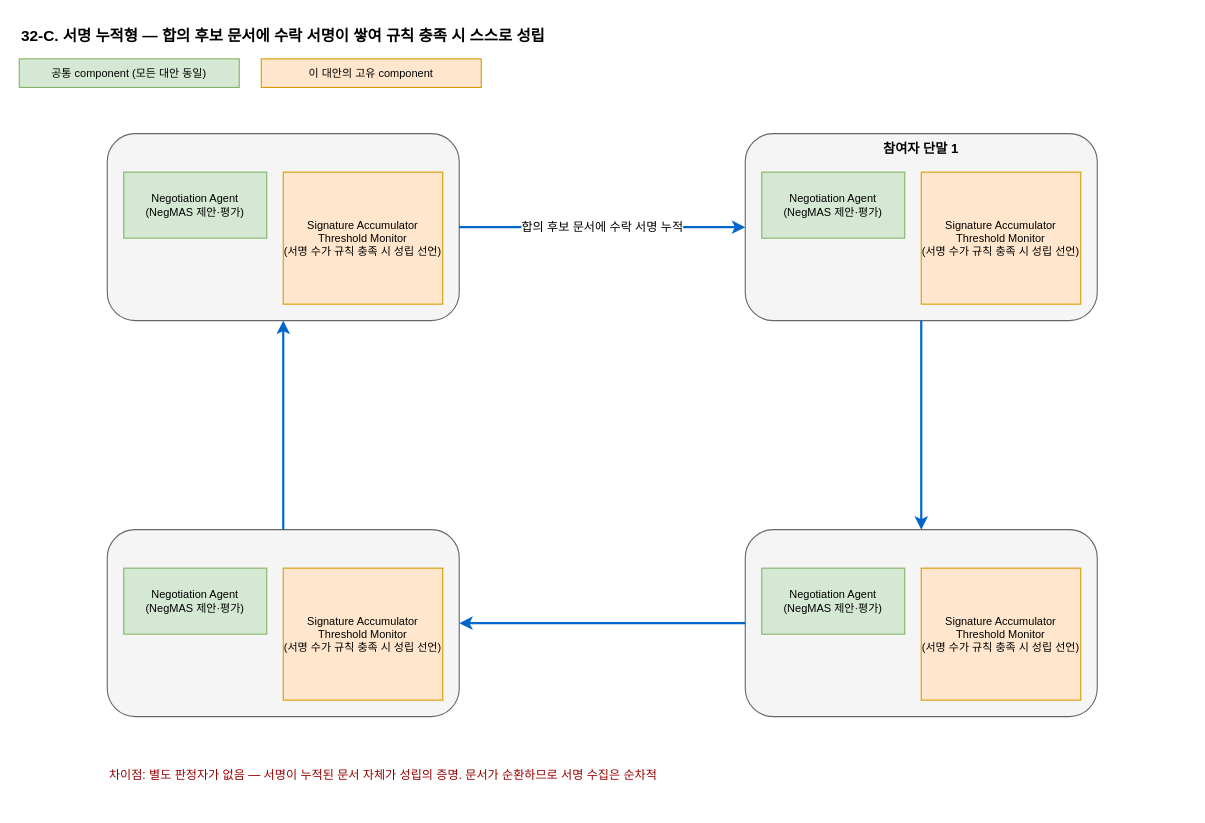
The diagram is 1205 pixels wide and 823 high, and some of its shapes have lost their labels. The shapes that lost their labels are listed below. From the top down, each one's box as (x1, y1, x2, y2) in pixels, then its label:
(106, 133, 459, 321): 개시자 단말
(106, 529, 459, 717): 참여자 단말 3
(744, 529, 1097, 717): 참여자 단말 2
